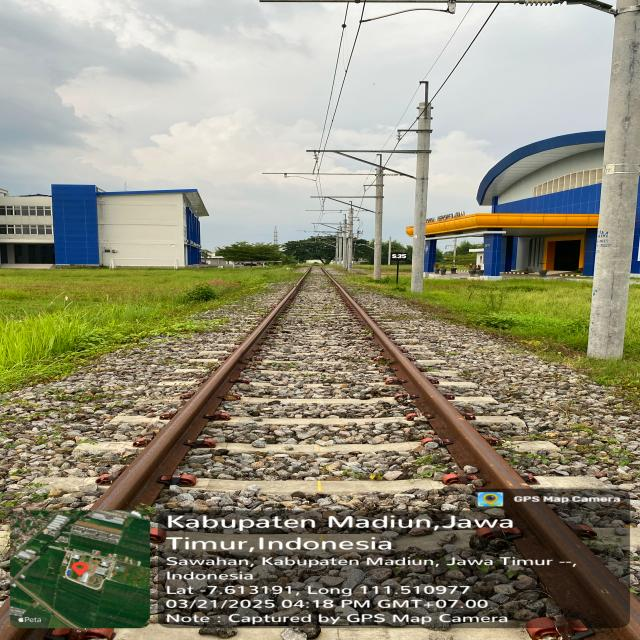rail-detection: (320, 265, 638, 640), (91, 265, 312, 510)
